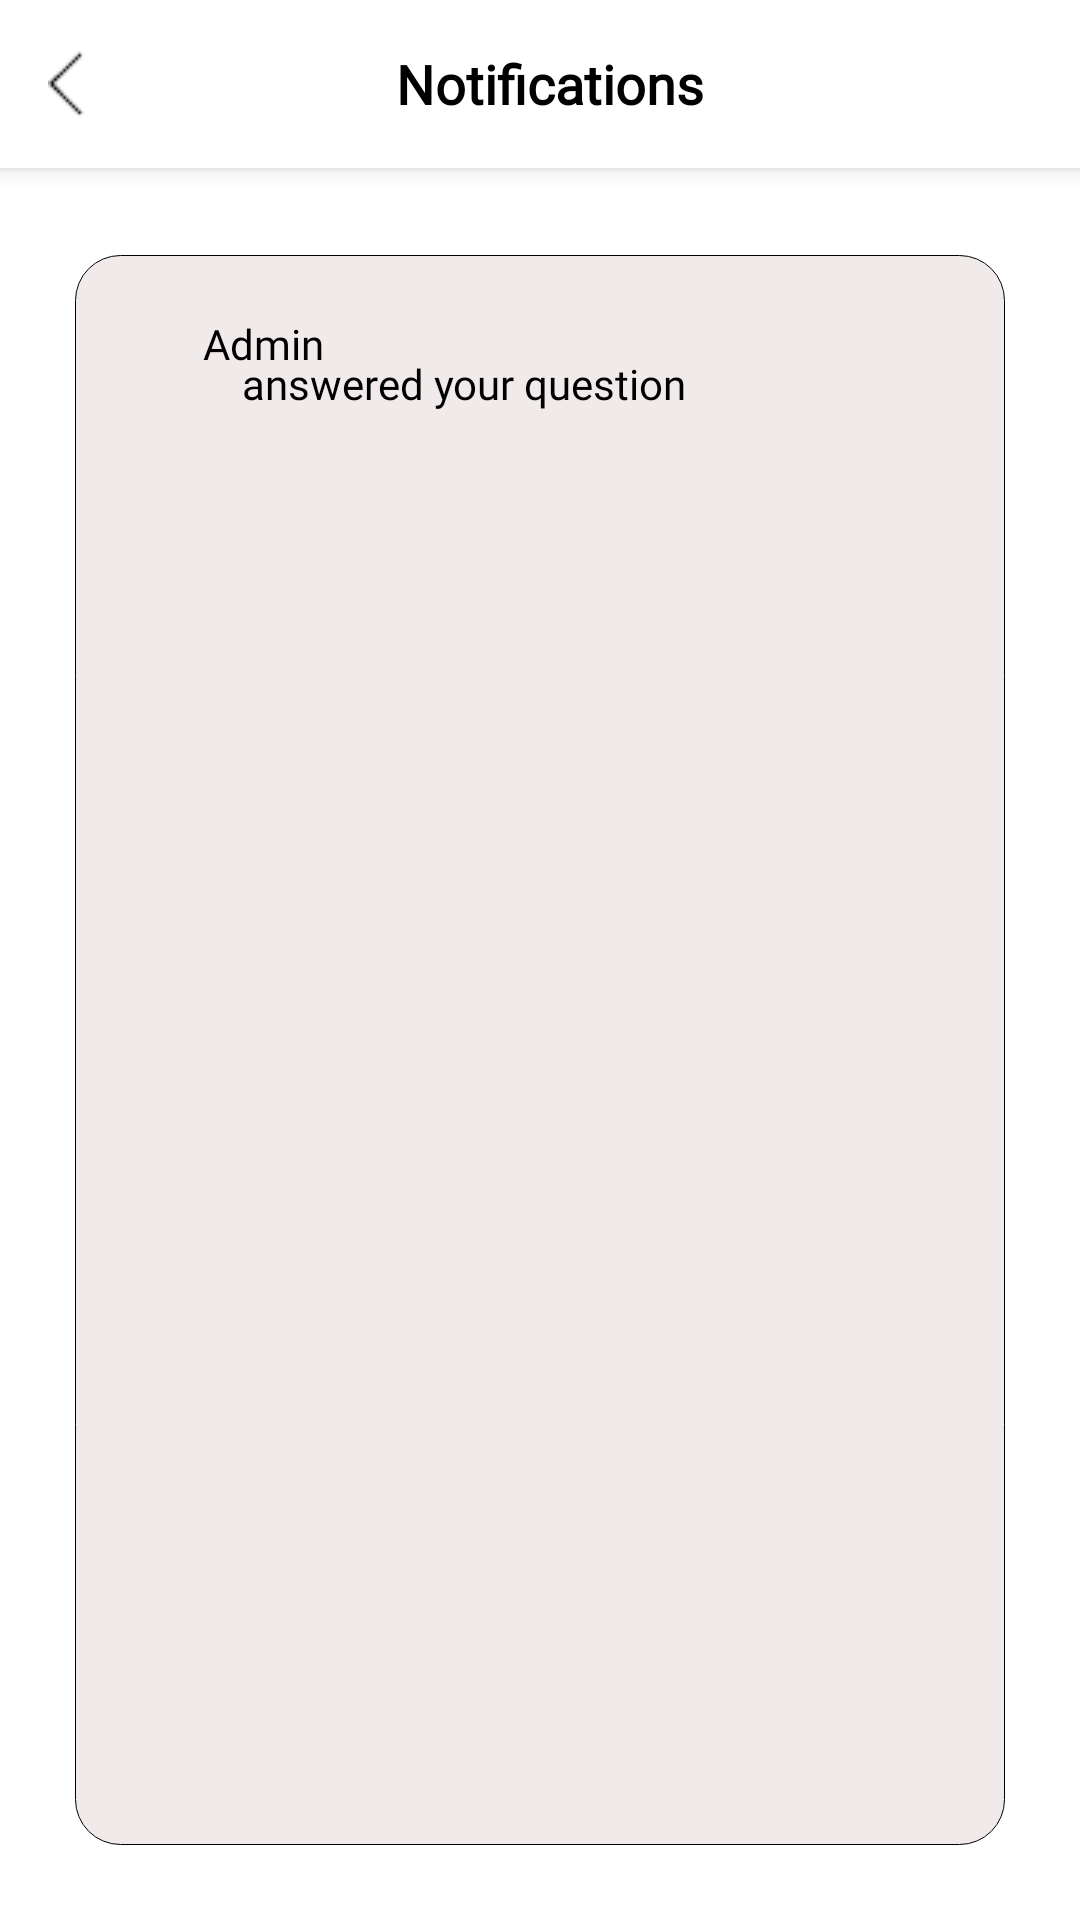

Where icons sit on this 1080 x 1920 app screen, as [x1,y1,x2,y2]:
back: [48,51,84,115]
